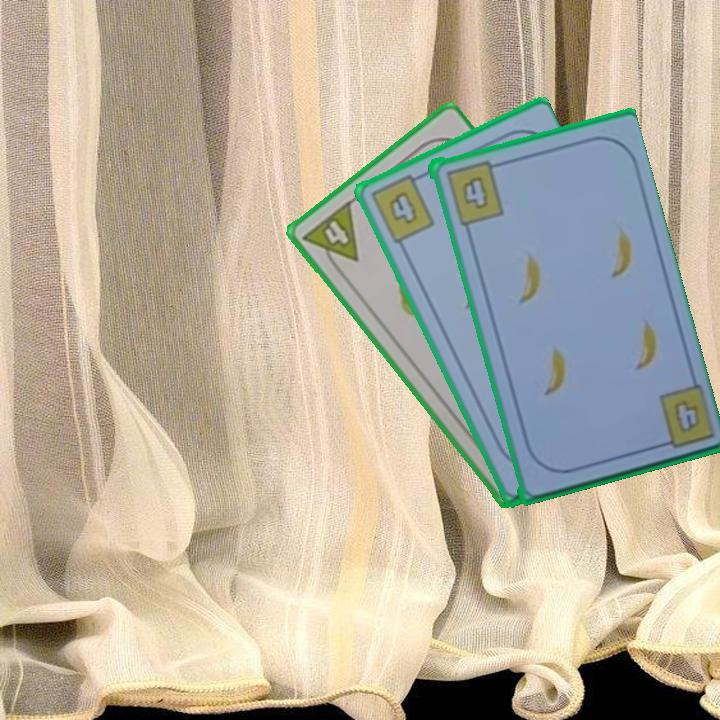4b: (366, 169, 437, 246), (441, 156, 507, 227), (650, 381, 715, 451)
4p: (299, 197, 362, 277)
